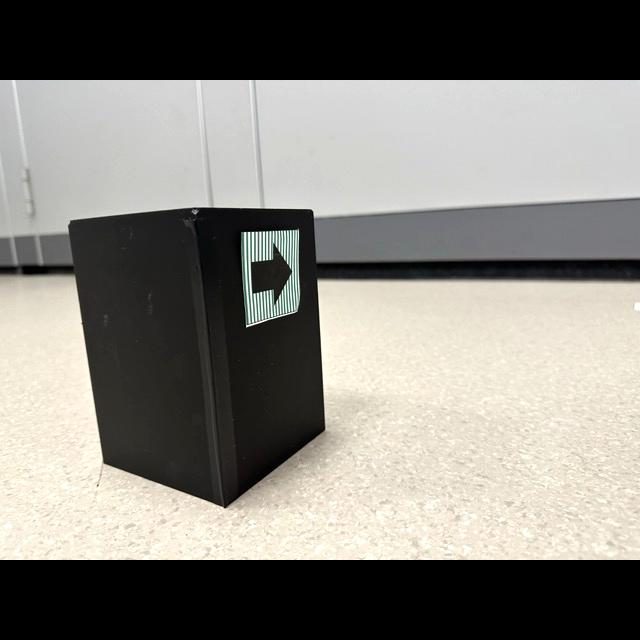RIGHT: (251, 243, 293, 306)
